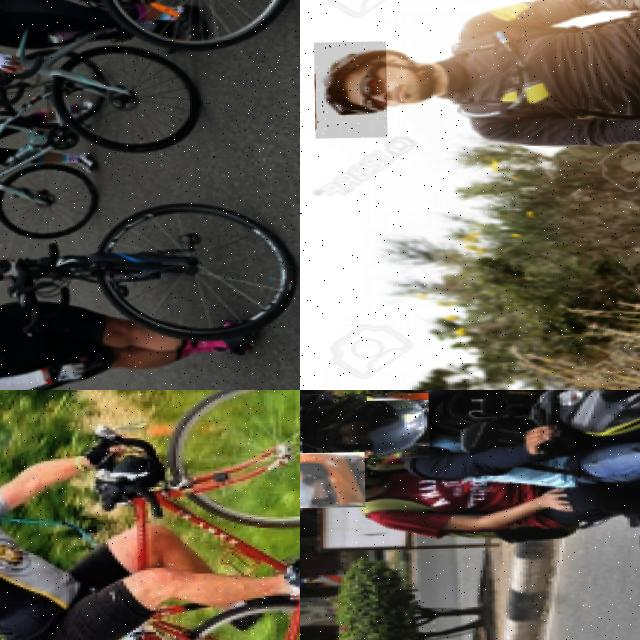helmet: (300, 391, 429, 458), (314, 40, 388, 137), (300, 450, 365, 507)
